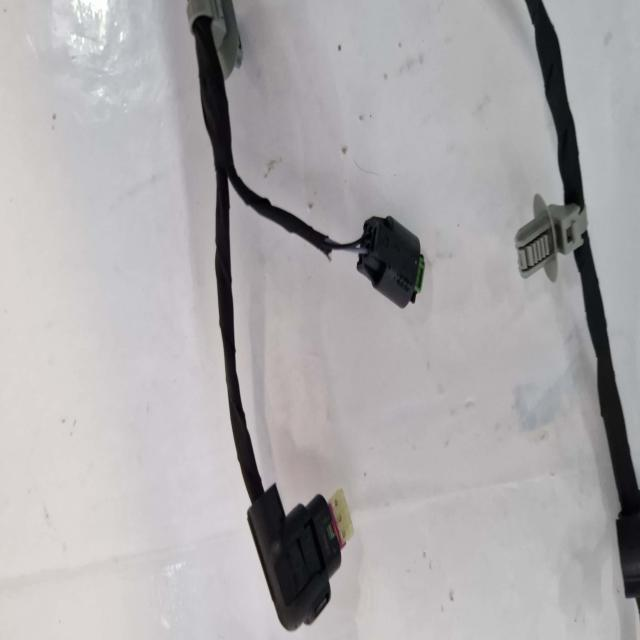Clip: (515, 195, 588, 282), (188, 0, 242, 80)
Connector: (248, 484, 341, 630), (358, 215, 425, 309)
Gape: (332, 234, 364, 266)
MHEV_N11_Cable: (188, 0, 350, 502), (575, 233, 640, 515), (526, 0, 585, 209)
